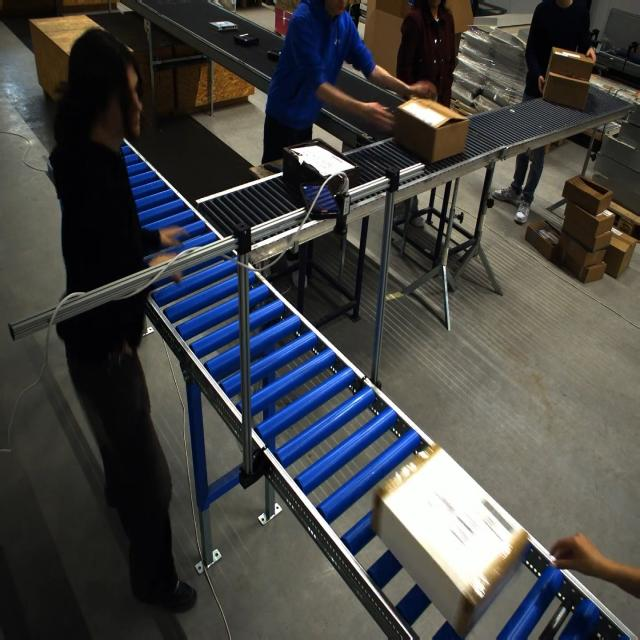box: (376, 449, 527, 634), (393, 96, 469, 164), (284, 138, 355, 201)
product: (233, 32, 259, 46), (208, 21, 238, 31)
